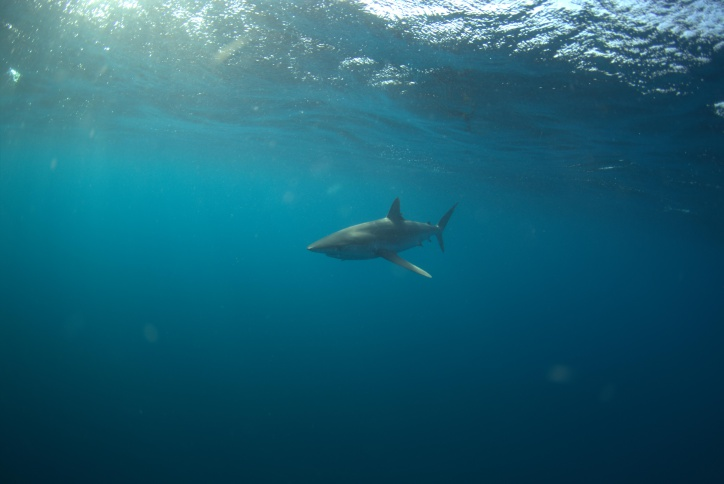Sedoso: (303, 192, 471, 288)
